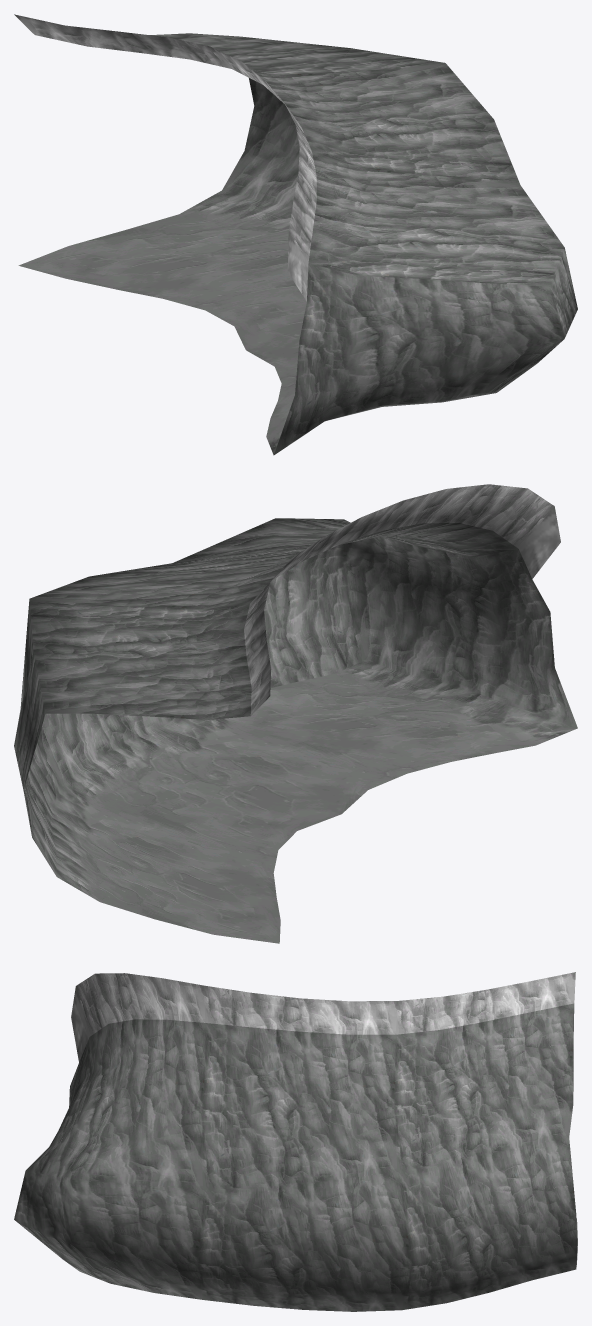
File: SWORDLIGHT20_PS-AREA03_23.fbx
The picture shows the model from 3 angles, top to bottom: view 1: azimuth 30°, elevation 25°; view 2: azimuth 150°, elevation 25°; view 3: azimuth 270°, elevation 25°; orthographic projection. The views are drawn at different scales.
Visible parts, largest first — view 1: SWORDLIGHT20_PS-AREA03_23; view 2: SWORDLIGHT20_PS-AREA03_23; view 3: SWORDLIGHT20_PS-AREA03_23.
Part boxes in pixels (left/top/right/bottom): SWORDLIGHT20_PS-AREA03_23: left=14, top=14, right=577, bottom=455; SWORDLIGHT20_PS-AREA03_23: left=14, top=484, right=577, bottom=943; SWORDLIGHT20_PS-AREA03_23: left=14, top=972, right=577, bottom=1311.
Size of the model in its own units: 100719 by 72605 by 152195.
Materials: 5 (5 with a texture image).
